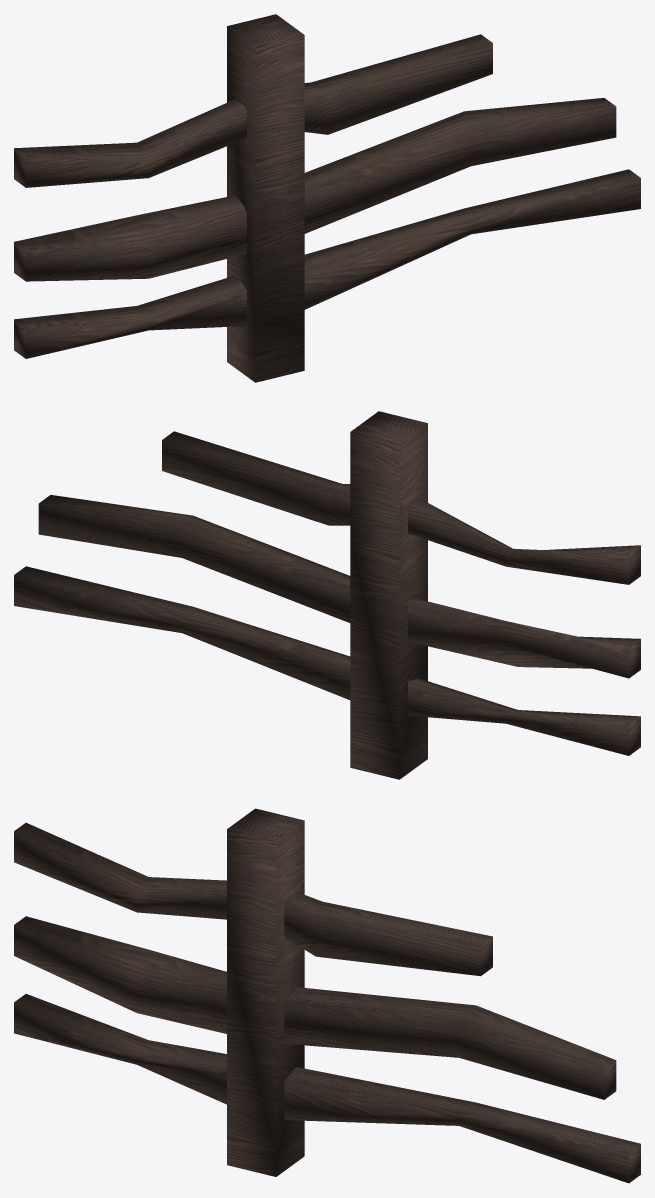
3 views of the same model, one above another, from view 1: azimuth 30°, elevation 25°; view 2: azimuth 150°, elevation 25°; view 3: azimuth 330°, elevation 25° (orthographic).
Parts seen in each view (by area): view 1: Cube175_Wood_02003_0; view 2: Cube175_Wood_02003_0; view 3: Cube175_Wood_02003_0.
Boxes of the visible parts, box(x1,y1,x2,y2) form: Cube175_Wood_02003_0: box(14, 14, 640, 382); Cube175_Wood_02003_0: box(14, 411, 640, 779); Cube175_Wood_02003_0: box(14, 808, 640, 1183).
Bounding box in the file's own units: 2.49 × 1.3 × 0.2.
1 material, 1 textured.
